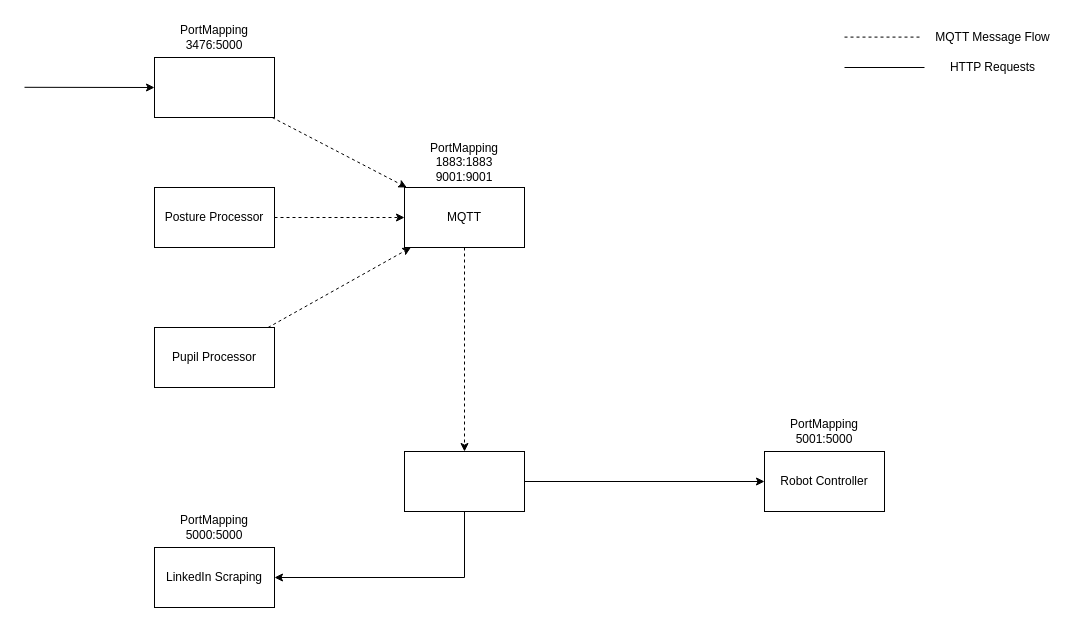
Some shapes in this 1080 by 625 pixel diagram are drawn without their labels. The centre of each missing label's shape, as x and y in pixels:
Analysis Module: (x=464, y=481)
Heartrate Processor: (x=214, y=87)
